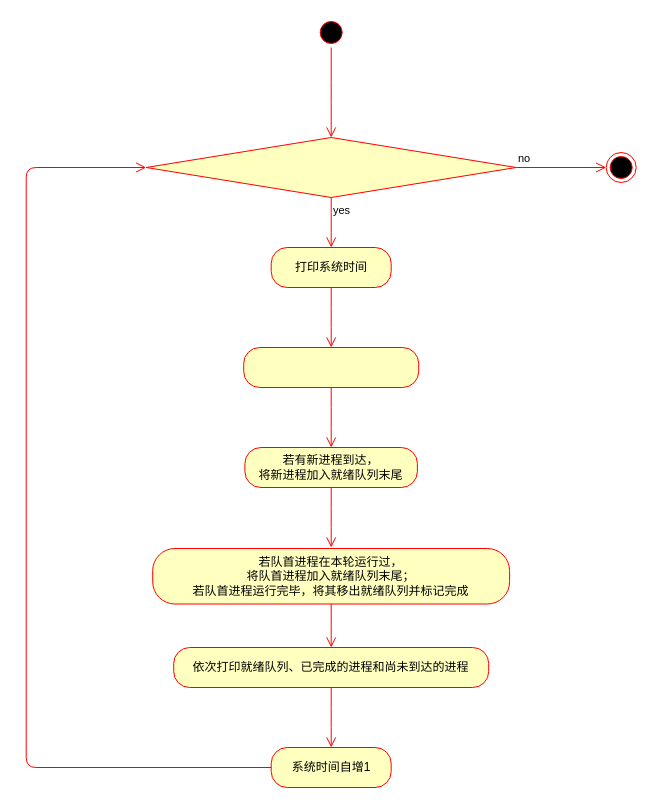
Some shapes in this 654 by 805 pixel diagram are drawn without their labels. The shapes that lost their labels are listed below. From the top down, each one's box as (x1, y1, x2, y2) in pixels, then its label:
(145, 136, 516, 198): 是否有进程尚未到达或就绪队列中还有进程？
(243, 346, 419, 388): 若就绪队列不为空， 取队首进程运行一个时间片
